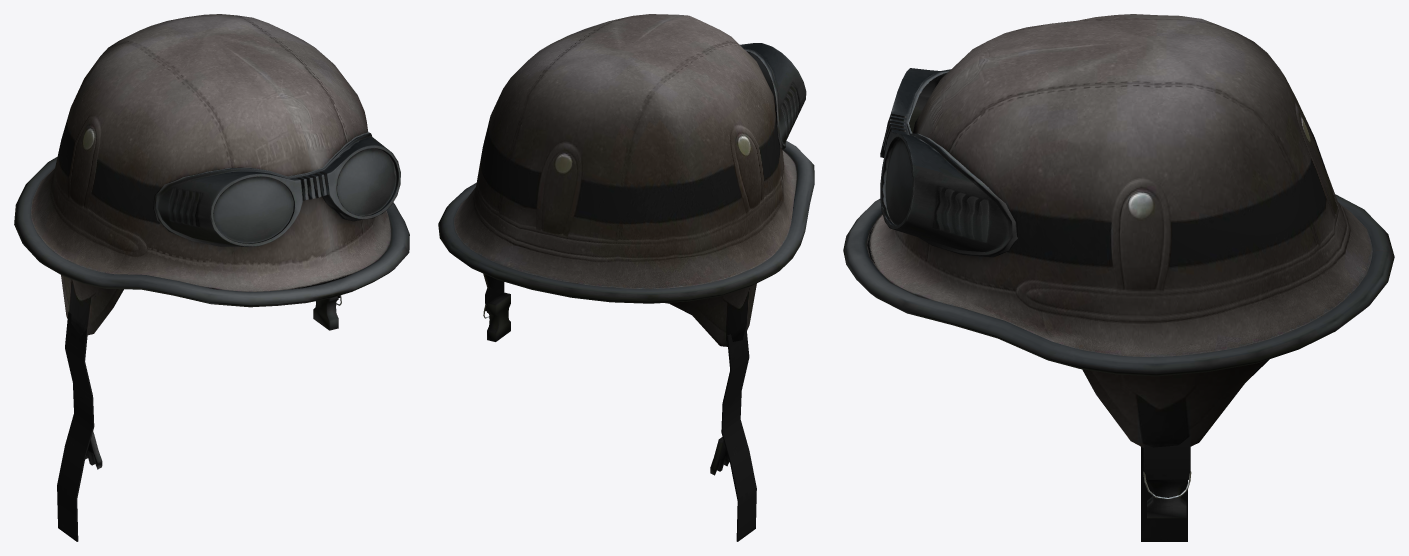
Rendered from vintage_helmet.glb.
3 renders of one model, left to right at view 1: azimuth 30°, elevation 25°; view 2: azimuth 150°, elevation 25°; view 3: azimuth 270°, elevation 25°, orthographic. The views are drawn at different scales.
Parts seen in each view (by area): view 1: Object_2; view 2: Object_2; view 3: Object_2.
Boxes of the visible parts, <box> form: Object_2: <box>14,14,409,541</box>; Object_2: <box>438,14,814,541</box>; Object_2: <box>843,14,1394,541</box>.
Size of the model in its own units: 0.2546 by 0.3433 by 0.2947.
Materials: 1 (1 with a texture image).
